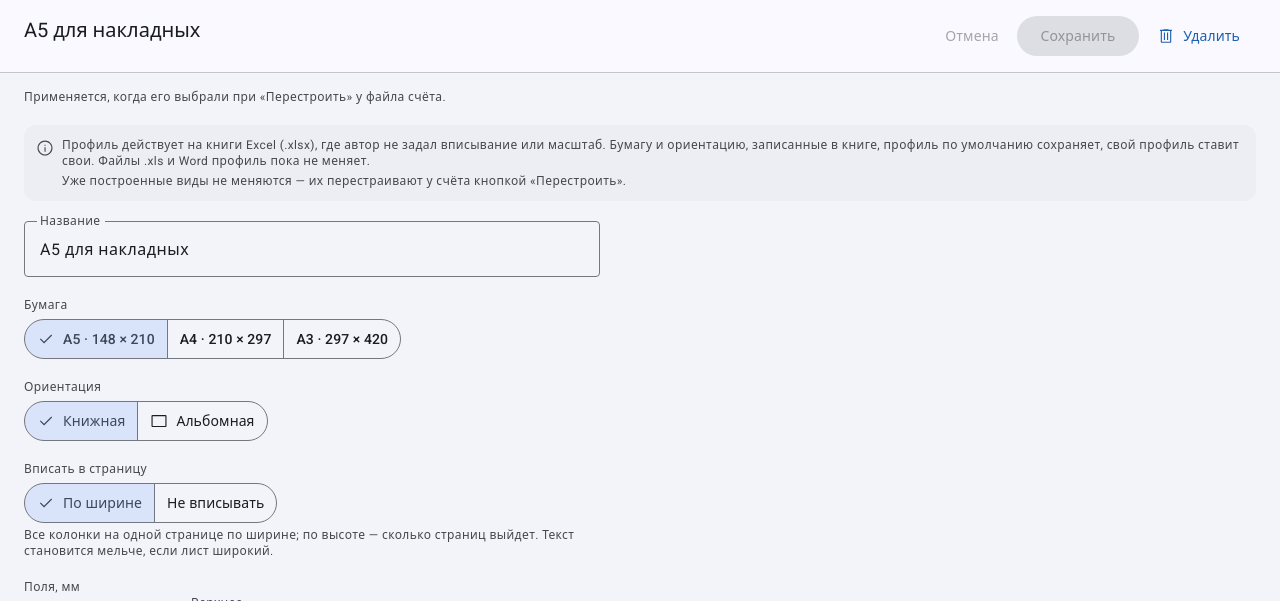
Test case: карточка профиля печати › отказ сервера с адресом поля встаёт под поле
Replace the text in the field labelled "Название" with "X" at {"x": 312, "y": 249}, box 24,221 -> 600,277
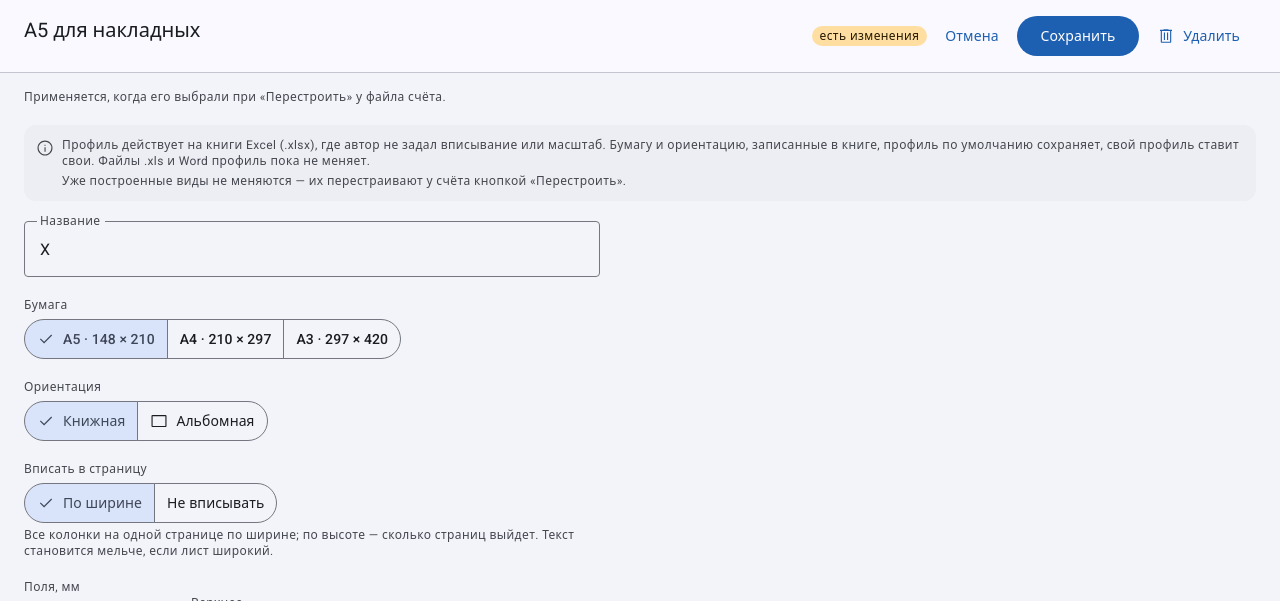
Click the button "Сохранить" at {"x": 1078, "y": 36}, box 1017,16 -> 1139,56
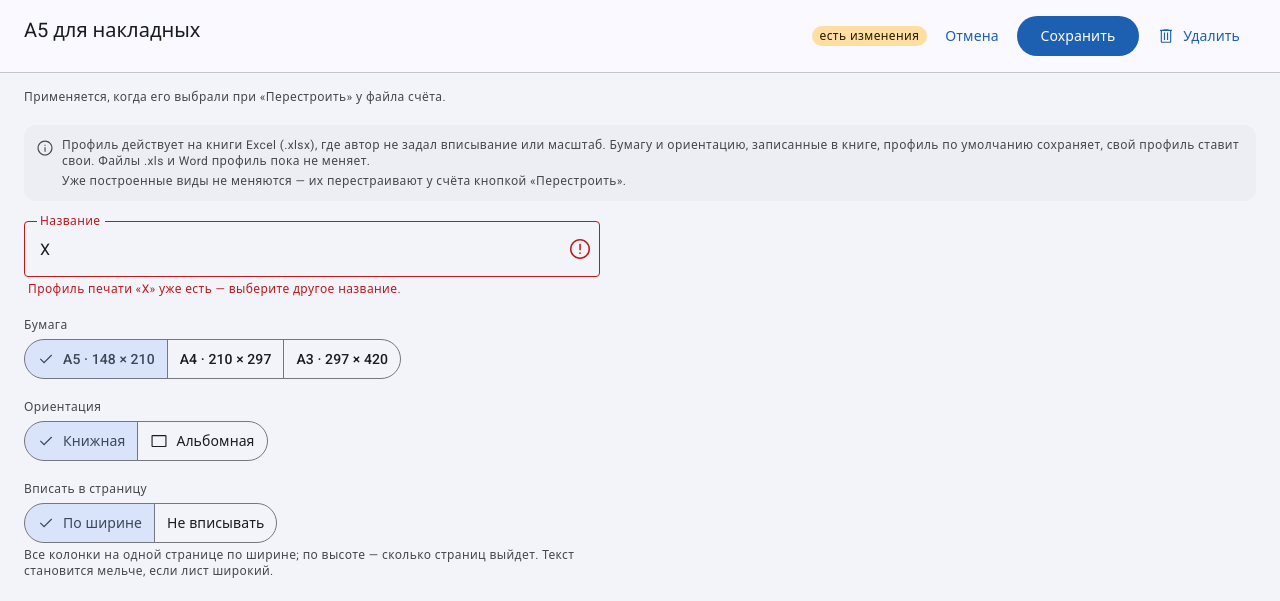
Check: the text "Профиль печати «X» уже есть — выберите другое название." is shown, box 28,282 -> 401,296
